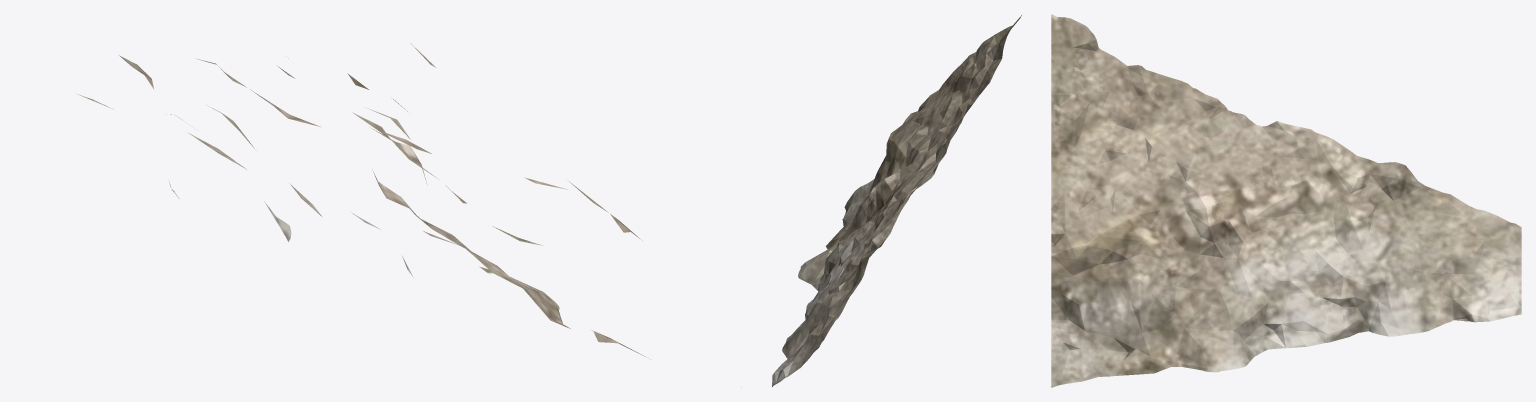
3 views of the same model, side by side, from view 1: azimuth 30°, elevation 25°; view 2: azimuth 150°, elevation 25°; view 3: azimuth 270°, elevation 25° (orthographic). The views are drawn at different scales.
Size of the model in its own units: 1.49 by 1.89 by 2.95.
2 materials, 2 textured.
